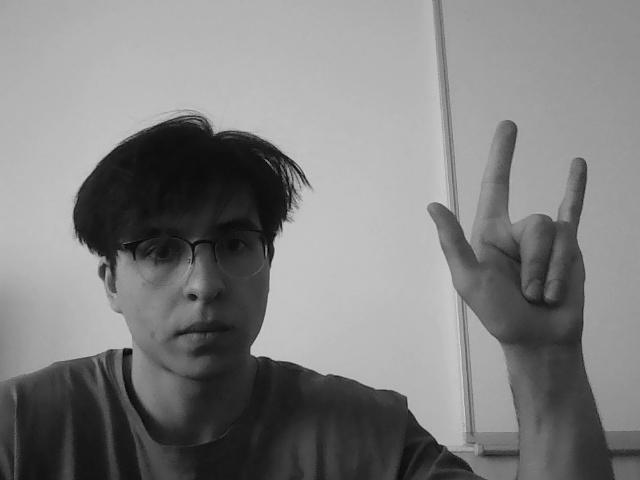I_Love_You: (422, 138, 614, 344)
